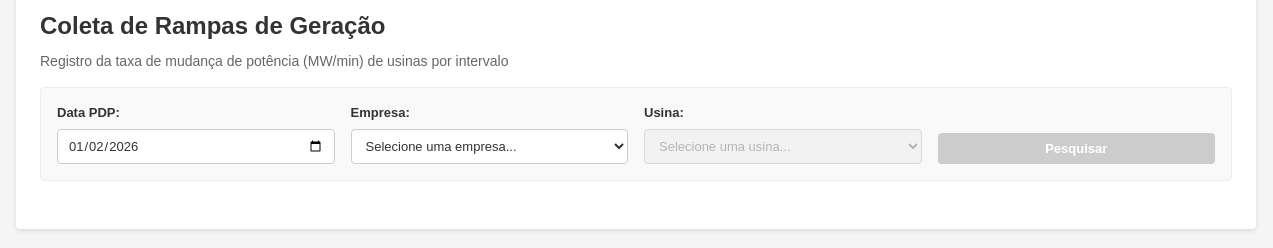
Test case: Ramp Component › should enable search button when all filters are selected
Select "Empresa Geradora A" in the dropdown with test id "company-filter" at (489, 146), box 350,129 -> 628,164
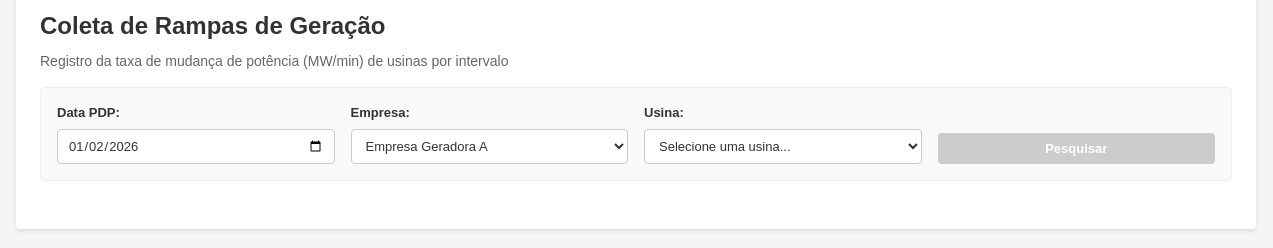
Expected: the dropdown with test id "plant-filter" is enabled
Select "Usina Hidroelétrica 1" in the dropdown with test id "plant-filter" at (783, 146), box 644,129 -> 922,164
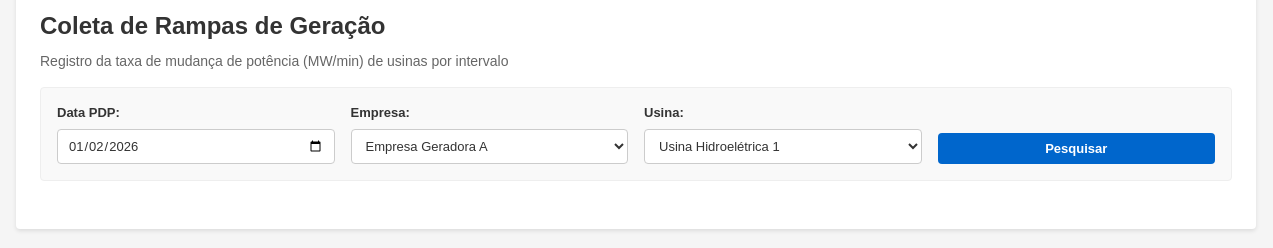
Expected: the button with test id "btn-search" is enabled, 938,133 -> 1215,164
